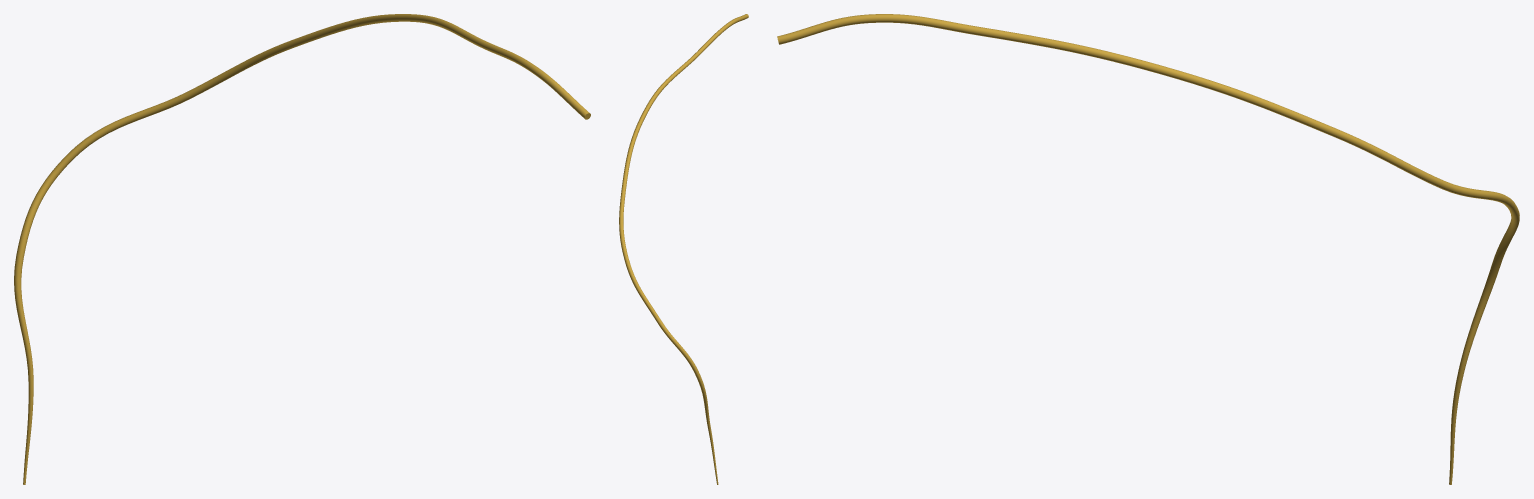
3 views of the same model, side by side, from view 1: azimuth 30°, elevation 25°; view 2: azimuth 150°, elevation 25°; view 3: azimuth 270°, elevation 25° (orthographic). The views are drawn at different scales.
Visible parts, largest first — view 1: 左侧舌神经; view 2: 左侧舌神经; view 3: 左侧舌神经.
Part boxes in pixels (x1,y1,x2,y2): 左侧舌神经: (14, 14, 590, 484); 左侧舌神经: (619, 14, 748, 484); 左侧舌神经: (777, 14, 1519, 484).
Size of the model in its own units: 0.0336 by 0.0677 by 0.0757.
